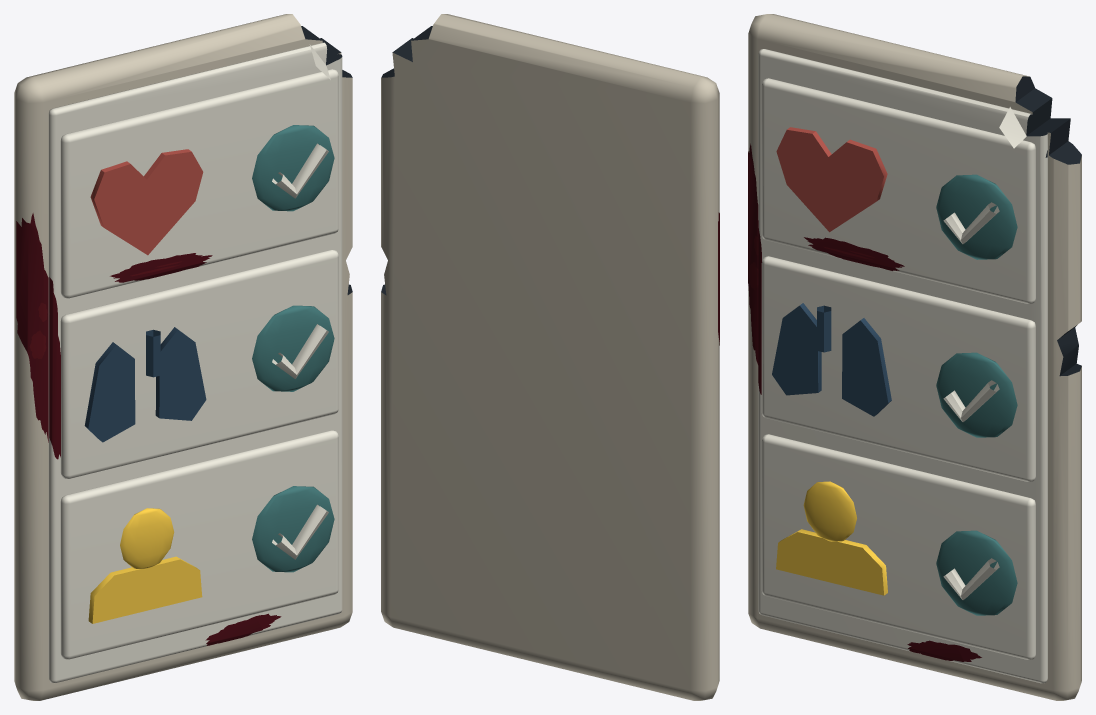
The model's file is clinical_art_preparation_checklist.glb.
The picture shows the model from 3 angles, left to right: view 1: azimuth 30°, elevation 25°; view 2: azimuth 150°, elevation 25°; view 3: azimuth 330°, elevation 25°; orthographic projection.
Parts seen in each view (by area): view 1: clinical_art_preparation_checklist_Outbreak_Static; view 2: clinical_art_preparation_checklist_Outbreak_Static; view 3: clinical_art_preparation_checklist_Outbreak_Static.
Boxes of the visible parts, x1,y1,x2,y2 form: clinical_art_preparation_checklist_Outbreak_Static: (14,14,352,700); clinical_art_preparation_checklist_Outbreak_Static: (381,14,719,700); clinical_art_preparation_checklist_Outbreak_Static: (748,14,1081,700).
Size of the model in its own units: 0.64 by 1.14 by 0.1481.
